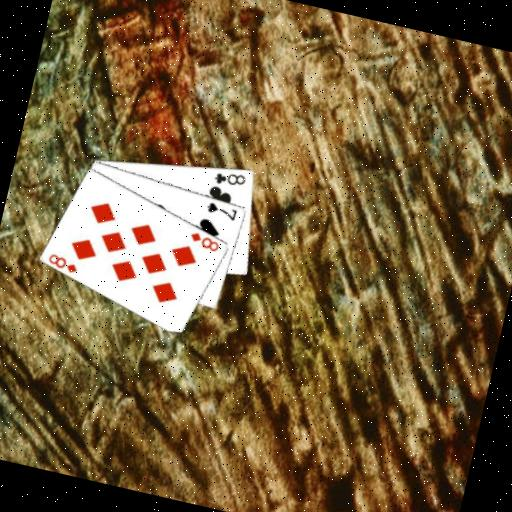7S: (203, 198, 240, 222)
8C: (211, 166, 249, 192)
8D: (186, 228, 223, 254), (44, 250, 81, 276)
